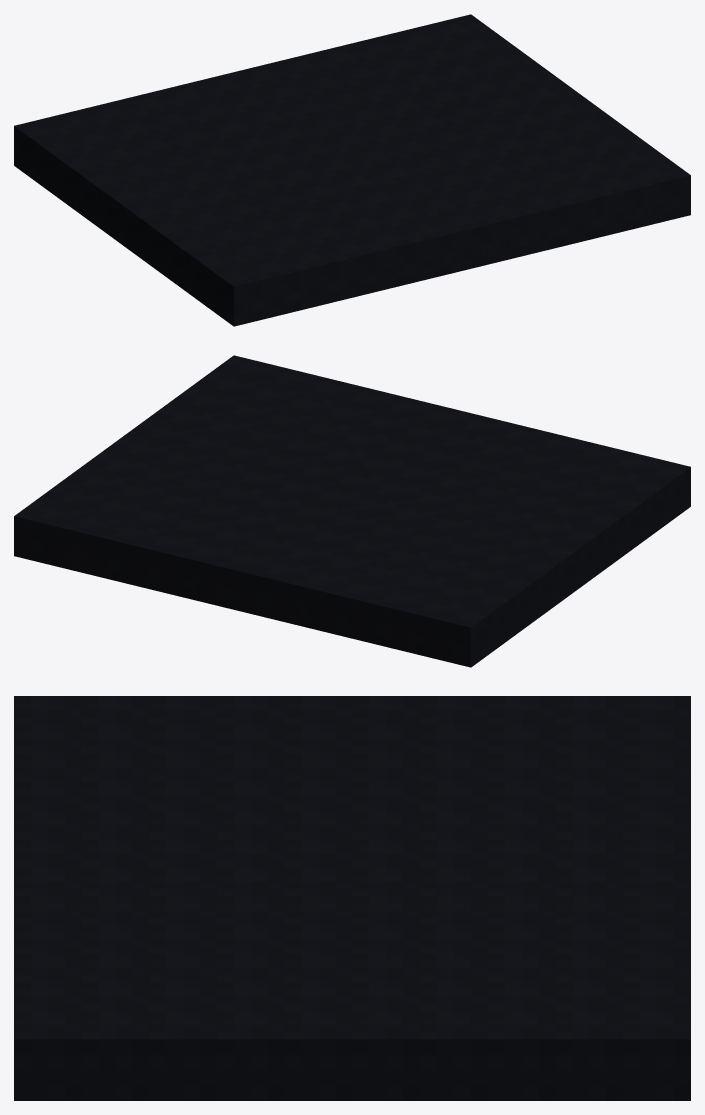
The model's file is RetaX12.fbx.
3 views of the same model, one above another, from view 1: azimuth 30°, elevation 25°; view 2: azimuth 150°, elevation 25°; view 3: azimuth 270°, elevation 25° (orthographic). The views are drawn at different scales.
Parts seen in each view (by area): view 1: Reta; view 2: Reta; view 3: Reta.
Part boxes in pixels (x1,y1,x2,y2): Reta: (14,14,690,326); Reta: (14,355,690,667); Reta: (14,696,690,1100).
Size of the model in its own units: 1200 by 100 by 1000.
Materials: 1 (1 with a texture image).
